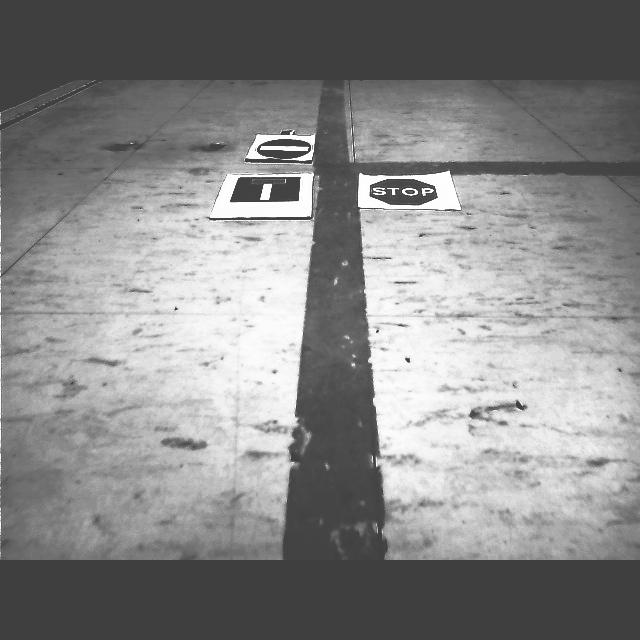DEAD END: (230, 176, 301, 202)
NO ENTRY: (257, 136, 312, 159)
STOP: (370, 178, 437, 205)
